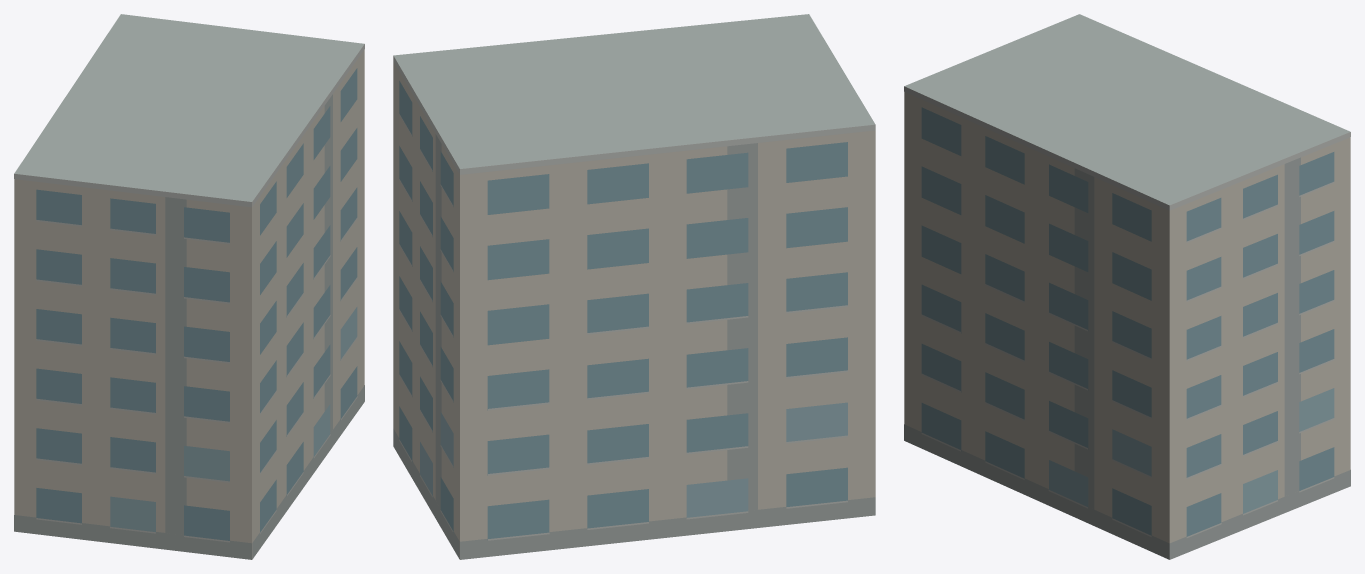
Rendered from survey-upis-32567136.glb.
3 views of the same model, side by side, from view 1: azimuth 30°, elevation 25°; view 2: azimuth 150°, elevation 25°; view 3: azimuth 270°, elevation 25° (orthographic). The views are drawn at different scales.
Parts seen in each view (by area): view 1: survey-upis-32567136.tmp; view 2: survey-upis-32567136.tmp; view 3: survey-upis-32567136.tmp.
Part boxes in pixels (x1=…): survey-upis-32567136.tmp: x1=14, y1=14, x2=364, y2=559; survey-upis-32567136.tmp: x1=393, y1=14, x2=875, y2=559; survey-upis-32567136.tmp: x1=904, y1=14, x2=1350, y2=559.
Bounding box in the file's own units: 19.01 × 16.4 × 18.74.
